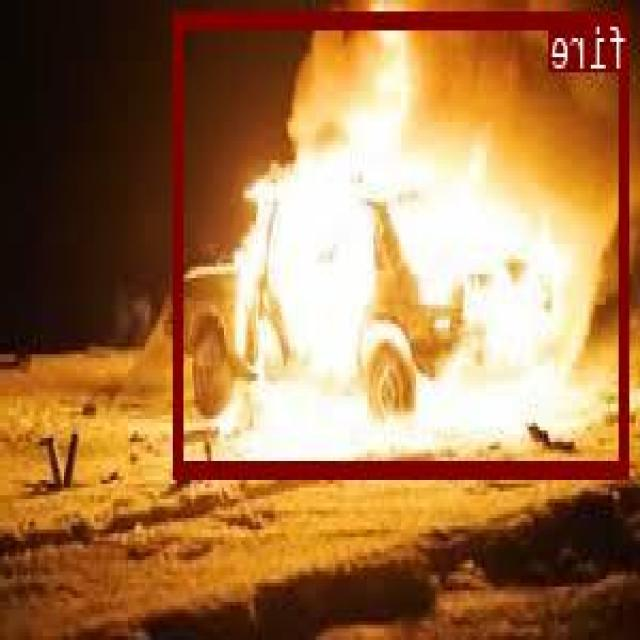fire: (177, 10, 631, 474)
